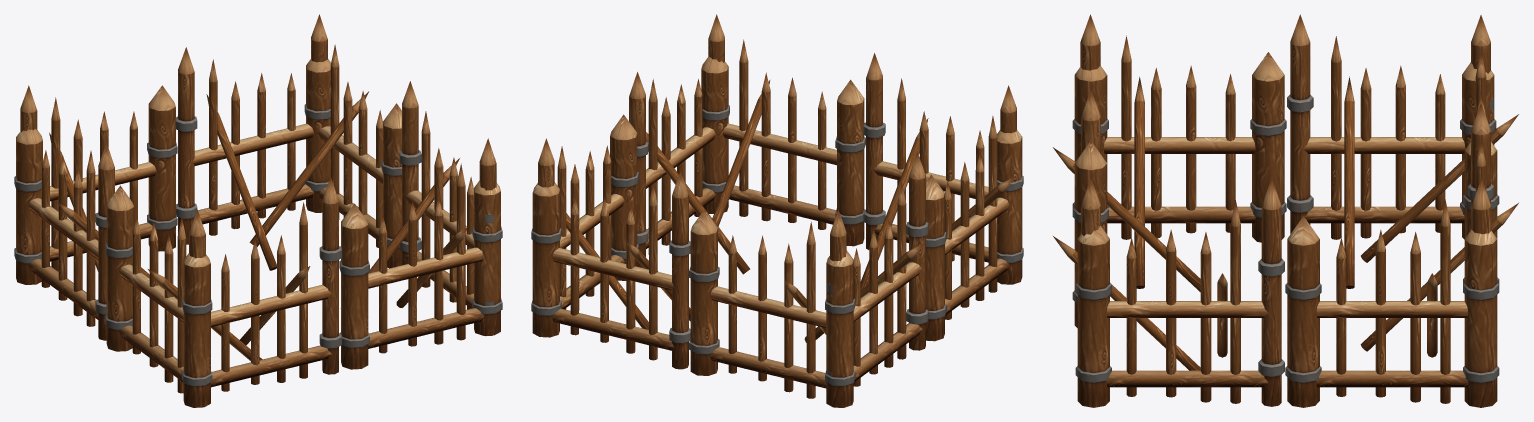
File: fence_Model.fbx
3 views of the same model, side by side, from view 1: azimuth 30°, elevation 25°; view 2: azimuth 150°, elevation 25°; view 3: azimuth 270°, elevation 25° (orthographic). The views are drawn at different scales.
Visible parts, largest first — view 1: Fence; view 2: Fence; view 3: Fence.
Boxes of the visible parts, x1,y1,x2,y2 form: Fence: (14, 14, 502, 407); Fence: (531, 14, 1023, 407); Fence: (1053, 14, 1518, 407).
Size of the model in its own units: 7.86 by 4.24 by 7.89.
